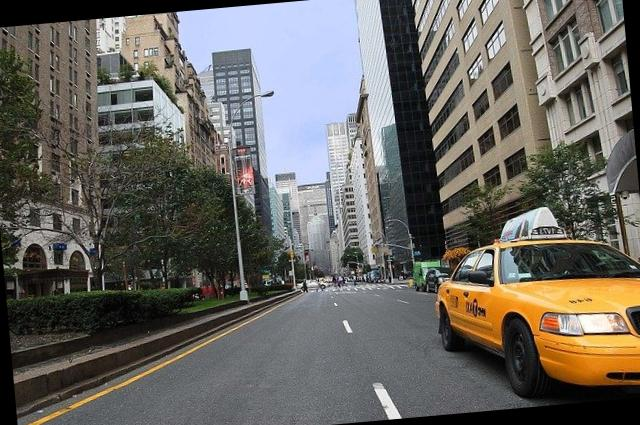taxi: (438, 237, 640, 391)
